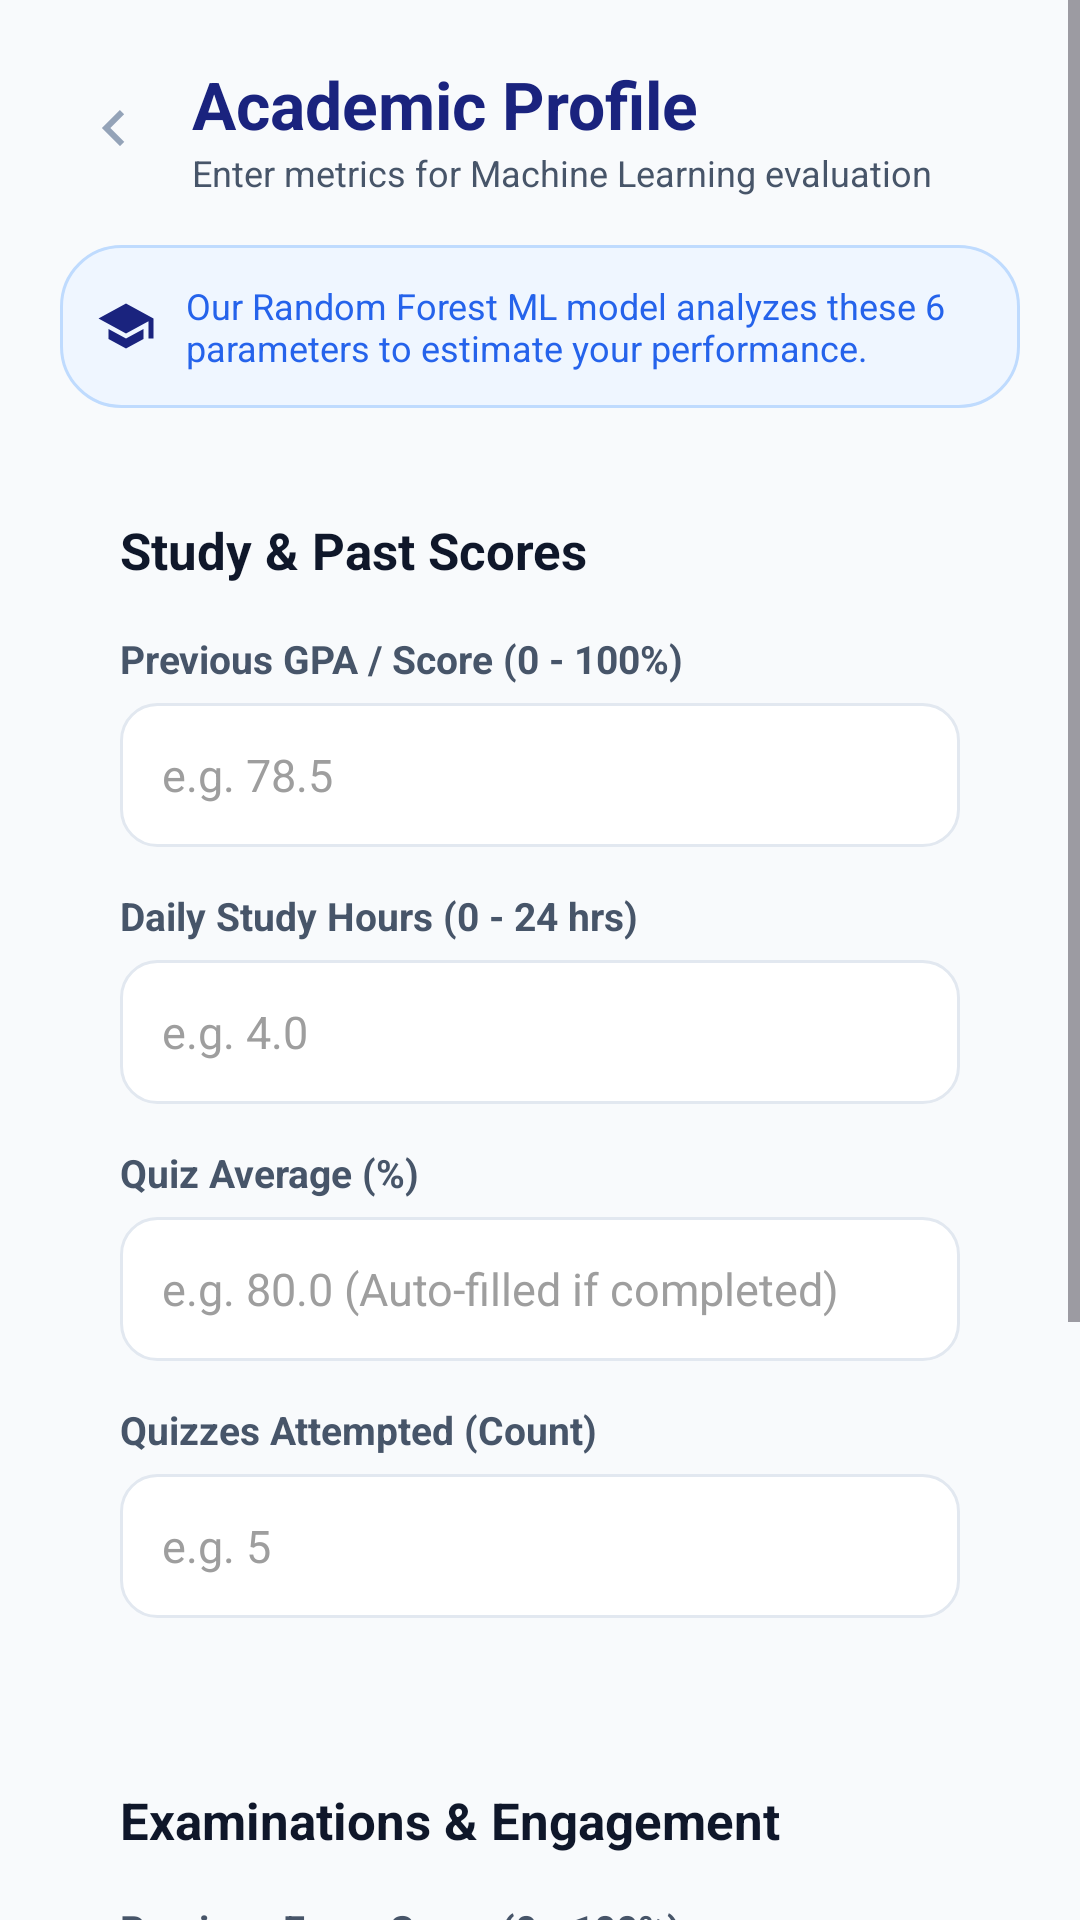

Screen size 1080x1920. Icon name, then its box in pixels as (x1, y1, x2, y2):
school: (98, 303, 154, 349)
